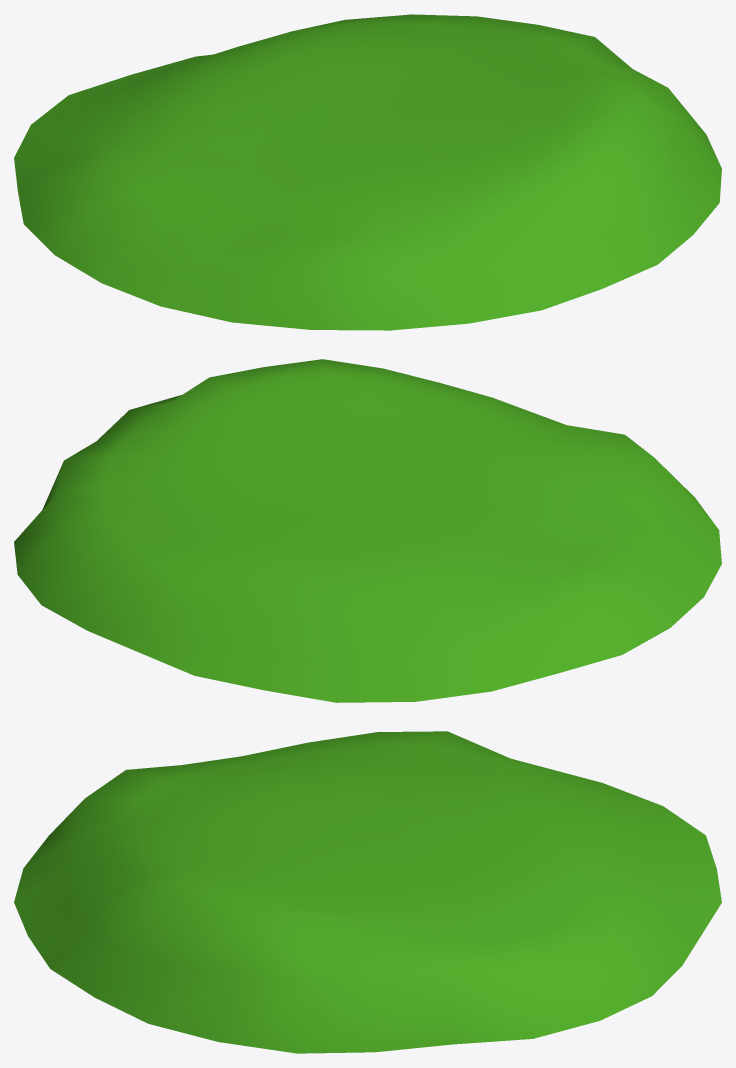
The model's file is GF_Hill_2.obj.
3 views of the same model, one above another, from view 1: azimuth 30°, elevation 25°; view 2: azimuth 150°, elevation 25°; view 3: azimuth 270°, elevation 25° (orthographic). The views are drawn at different scales.
Visible parts, largest first — view 1: GF_Hill_2; view 2: GF_Hill_2; view 3: GF_Hill_2.
Part boxes in pixels (x1=…): GF_Hill_2: x1=14, y1=14, x2=721, y2=330; GF_Hill_2: x1=14, y1=359, x2=721, y2=702; GF_Hill_2: x1=14, y1=731, x2=721, y2=1053.
Size of the model in its own units: 6.65 by 0.8844 by 6.52.
